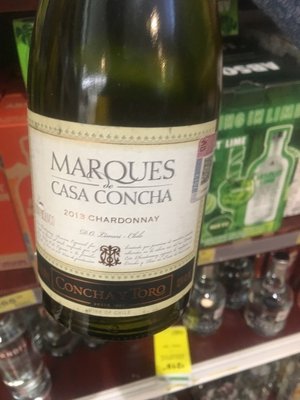marques de casa concha chardonnay: (31, 10, 227, 325)
